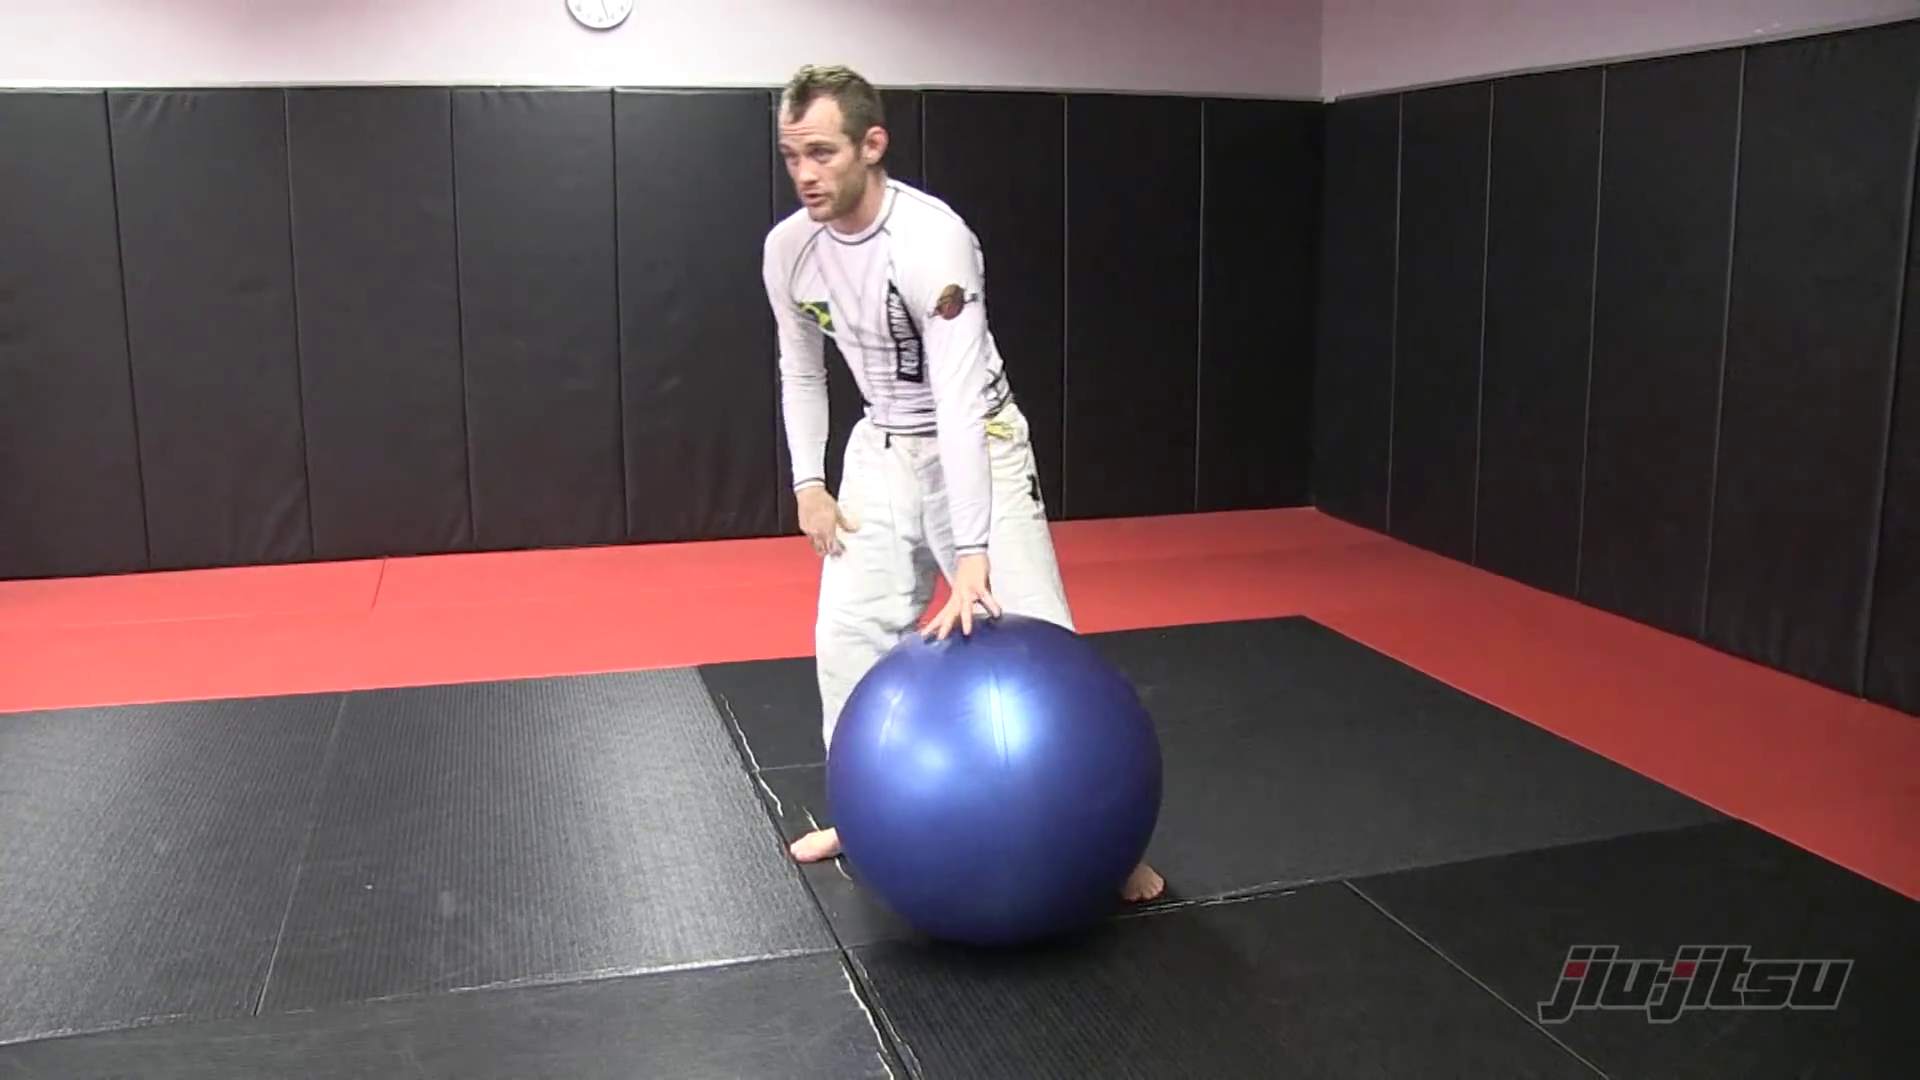yogaball: (819, 597, 1182, 989)
